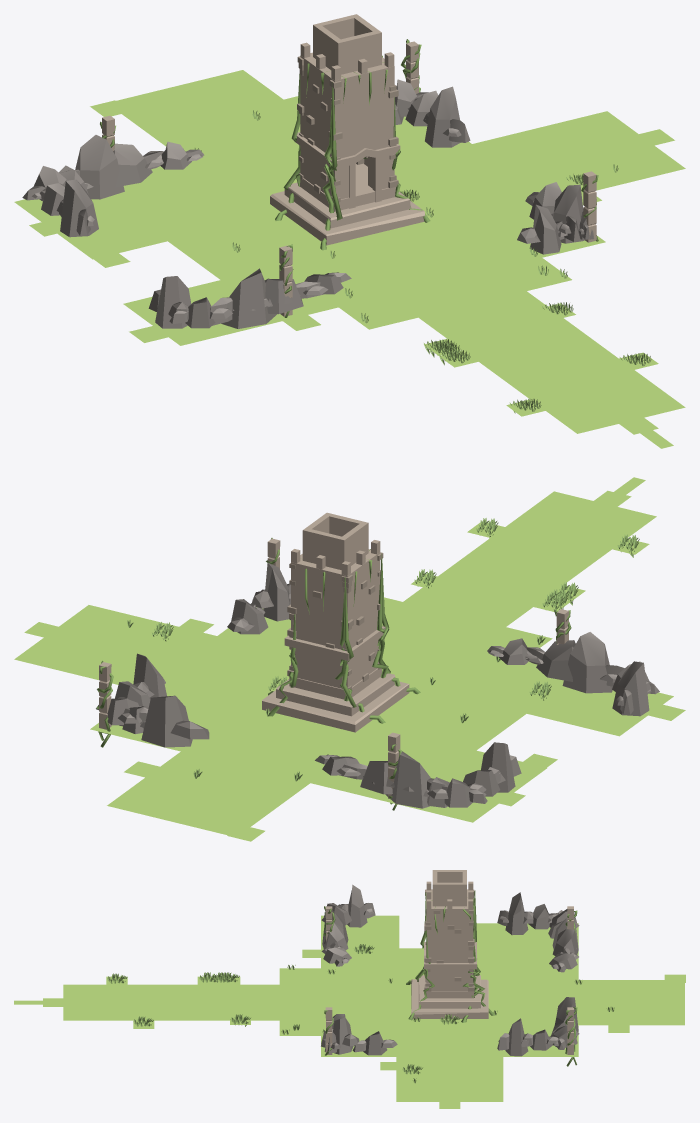
The model's file is planeGround6.glb.
3 views of the same model, one above another, from view 1: azimuth 30°, elevation 25°; view 2: azimuth 150°, elevation 25°; view 3: azimuth 270°, elevation 25° (orthographic). The views are drawn at different scales.
Parts seen in each view (by area): view 1: Object_7.001, Object_3, Object_9, Object_11, Object_4, Object_2, Object_5; view 2: Object_7.001, Object_9, Object_3, Object_11, Object_4, Object_2, Object_5; view 3: Object_7.001, Object_3, Object_9, Object_11, Object_4, Object_2, Object_5.
Boxes of the visible parts, x1,y1,x2,y2 form: Object_7.001: [14, 70, 685, 448]; Object_3: [102, 14, 596, 316]; Object_9: [22, 79, 595, 328]; Object_11: [100, 39, 598, 317]; Object_4: [194, 110, 583, 413]; Object_2: [297, 56, 398, 202]; Object_5: [330, 164, 651, 365]; Object_7.001: [14, 477, 685, 841]; Object_9: [96, 562, 659, 808]; Object_3: [99, 512, 568, 798]; Object_11: [96, 538, 571, 810]; Object_4: [152, 534, 639, 781]; Object_2: [287, 552, 383, 689]; Object_5: [127, 518, 568, 716]; Object_7.001: [14, 915, 685, 1108]; Object_3: [325, 870, 573, 1054]; Object_9: [321, 884, 579, 1056]; Object_11: [323, 890, 577, 1066]; Object_4: [107, 944, 614, 1074]; Object_2: [424, 889, 474, 991]; Object_5: [133, 965, 497, 1083].
Bounding box in the file's own units: 24.31 × 8.67 × 34.3.
